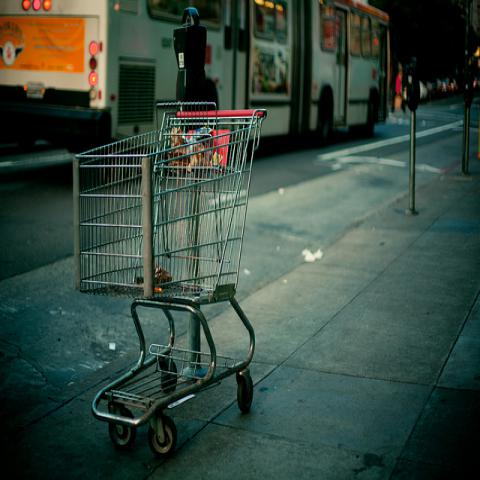bus: (3, 5, 252, 137), (249, 1, 391, 138)
car: (426, 83, 438, 100), (449, 79, 458, 95)
